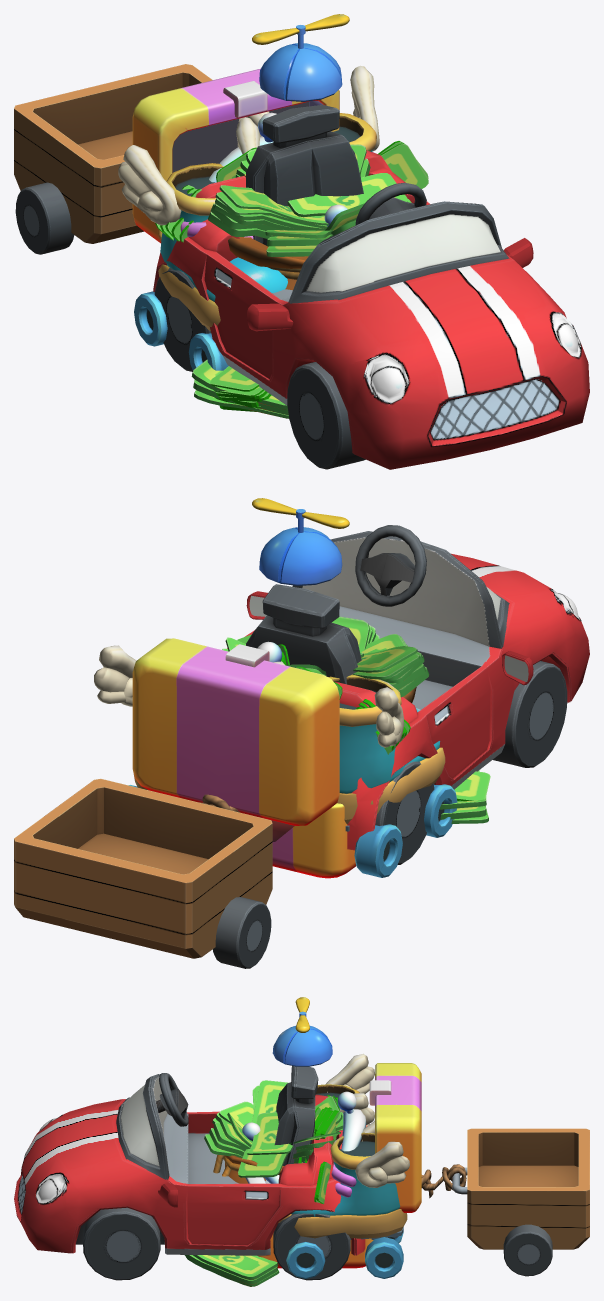
The model's file is Booster_Pack.fbx.
The picture shows the model from 3 angles, top to bottom: view 1: azimuth 30°, elevation 25°; view 2: azimuth 150°, elevation 25°; view 3: azimuth 270°, elevation 25°; orthographic projection. The views are drawn at different scales.
Parts seen in each view (by area): view 1: Booster_Mini_Car_NoRope, Booster_Mini_Car, Booster_Patin, Booster_Money_BAG, Booster_Money_CASE, Booster_Hopter, Booster_Money_POUCH; view 2: Booster_Mini_Car, Booster_Money_CASE, Booster_Mini_Car_NoRope, Booster_Patin, Booster_Money_BAG, Booster_Hopter, Booster_Money_POUCH; view 3: Booster_Mini_Car_NoRope, Booster_Mini_Car, Booster_Patin, Booster_Money_BAG, Booster_Money_CASE, Booster_Money_POUCH, Booster_Hopter.
Boxes of the visible parts, <box> form: Booster_Mini_Car_NoRope: <box>154,109,589,469</box>; Booster_Mini_Car: <box>14,64,562,466</box>; Booster_Patin: <box>118,65,379,370</box>; Booster_Money_BAG: <box>191,144,411,418</box>; Booster_Money_CASE: <box>132,68,339,243</box>; Booster_Hopter: <box>252,14,349,101</box>; Booster_Money_POUCH: <box>155,112,428,411</box>; Booster_Mini_Car: <box>14,526,586,968</box>; Booster_Money_CASE: <box>132,638,356,878</box>; Booster_Mini_Car_NoRope: <box>227,525,589,862</box>; Booster_Patin: <box>94,645,457,877</box>; Booster_Money_BAG: <box>222,616,488,823</box>; Booster_Hopter: <box>252,498,349,585</box>; Booster_Money_POUCH: <box>242,641,490,841</box>; Booster_Mini_Car_NoRope: <box>14,1066,355,1280</box>; Booster_Mini_Car: <box>50,1066,589,1280</box>; Booster_Patin: <box>278,1054,409,1278</box>; Booster_Money_BAG: <box>184,1080,343,1286</box>; Booster_Money_CASE: <box>257,1063,421,1268</box>; Booster_Money_POUCH: <box>242,1091,367,1203</box>; Booster_Hopter: <box>272,997,332,1066</box>.
Bounding box in the file's own units: 216 × 224 × 514.
Materials: 2 (2 with a texture image).
